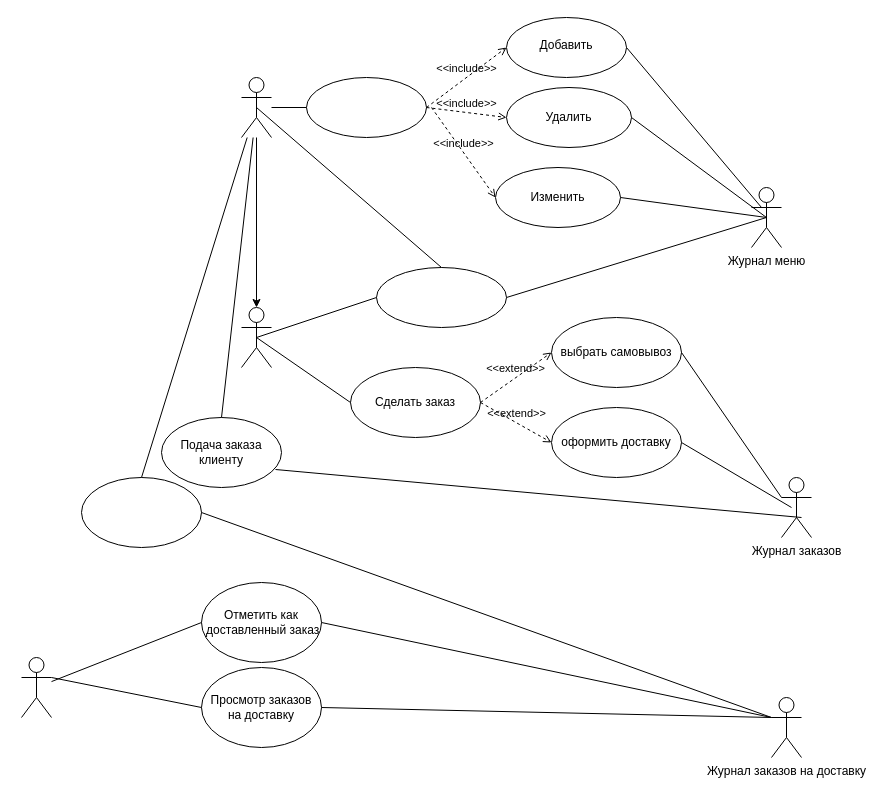
This 883x796 diagram has some shape labels left out. Each missing label, with the centre of its shape:
"Администратор ресторана" goes at point 256,107.
"Клиент" goes at point 256,337.
"Курьер" goes at point 36,687.
"Передача заказа на доставку" goes at point 141,512.
"Просмотр меню" goes at point 441,297.
"Редактирование меню" goes at point 366,107.
